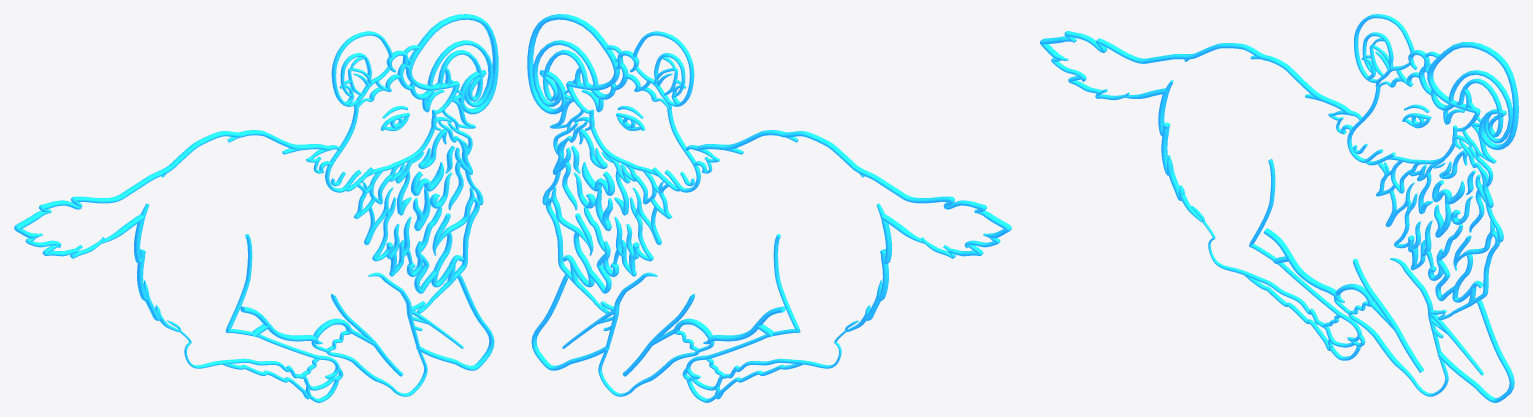
File: aries-constellation-dhazele-6.glb
3 views of the same model, side by side, from view 1: azimuth 30°, elevation 25°; view 2: azimuth 150°, elevation 25°; view 3: azimuth 330°, elevation 25° (orthographic).
Visible parts, largest first — view 1: BezierCurve.001; view 2: BezierCurve.001; view 3: BezierCurve.001.
Boxes of the visible parts, <box> form: BezierCurve.001: <box>14,14,498,402</box>; BezierCurve.001: <box>527,14,1011,402</box>; BezierCurve.001: <box>1040,14,1518,402</box>.
Size of the model in its own units: 4.29 by 3.18 by 0.0725.
